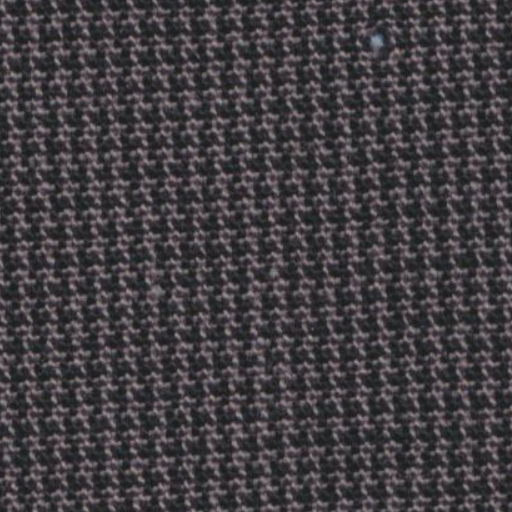PoDong: (346, 10, 408, 67)
